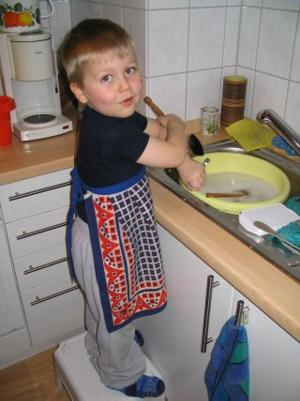person: (61, 16, 206, 398)
